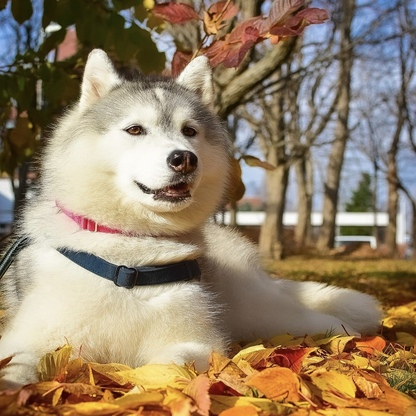husky: (1, 46, 387, 397)
